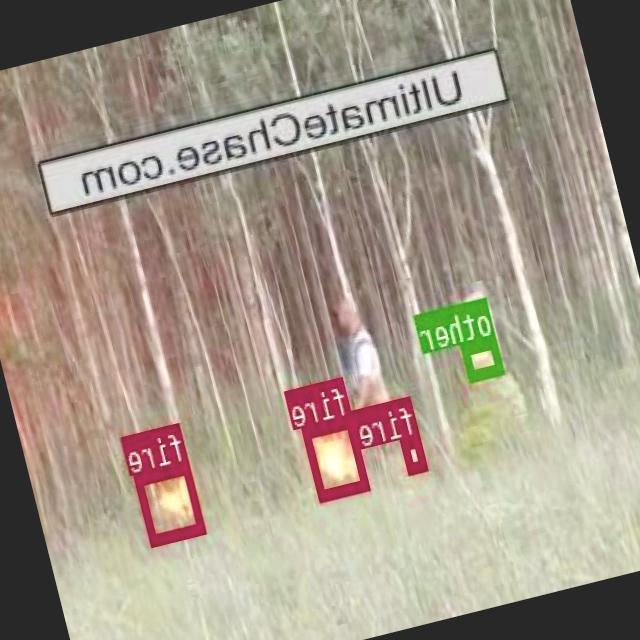fire: (134, 459, 207, 544), (304, 414, 372, 498), (401, 432, 428, 472)
